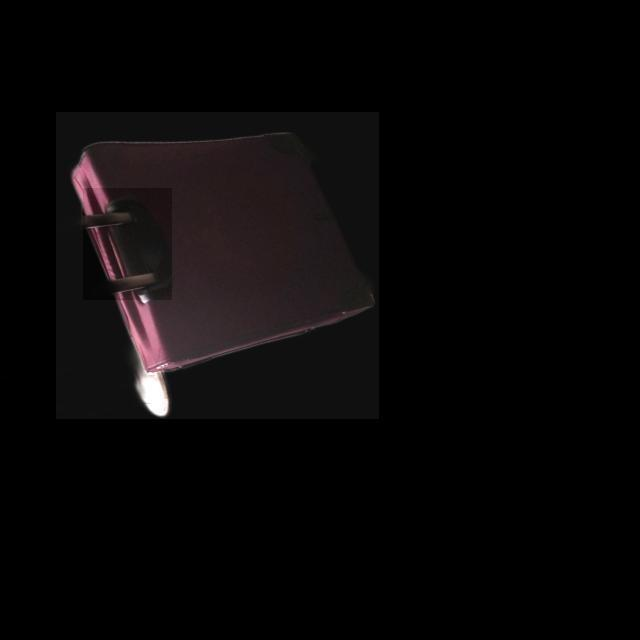Suitcase: (6, 126, 406, 422)
